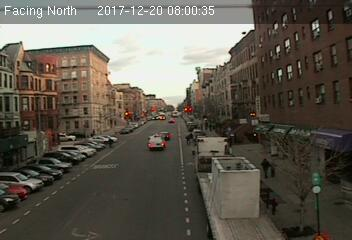bicycle: (107, 137, 116, 151)
car: (147, 135, 166, 149)
pedestrian: (262, 155, 270, 181)
truck: (193, 136, 287, 240)
